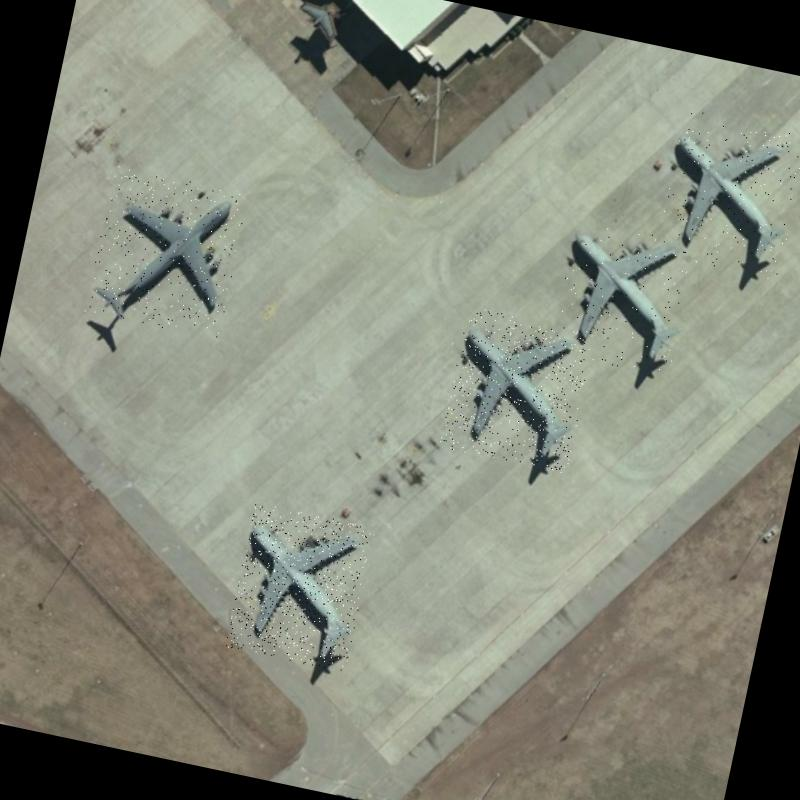A4: (84, 166, 250, 340), (439, 306, 596, 474), (225, 503, 376, 672), (655, 109, 800, 281), (549, 219, 697, 377)
